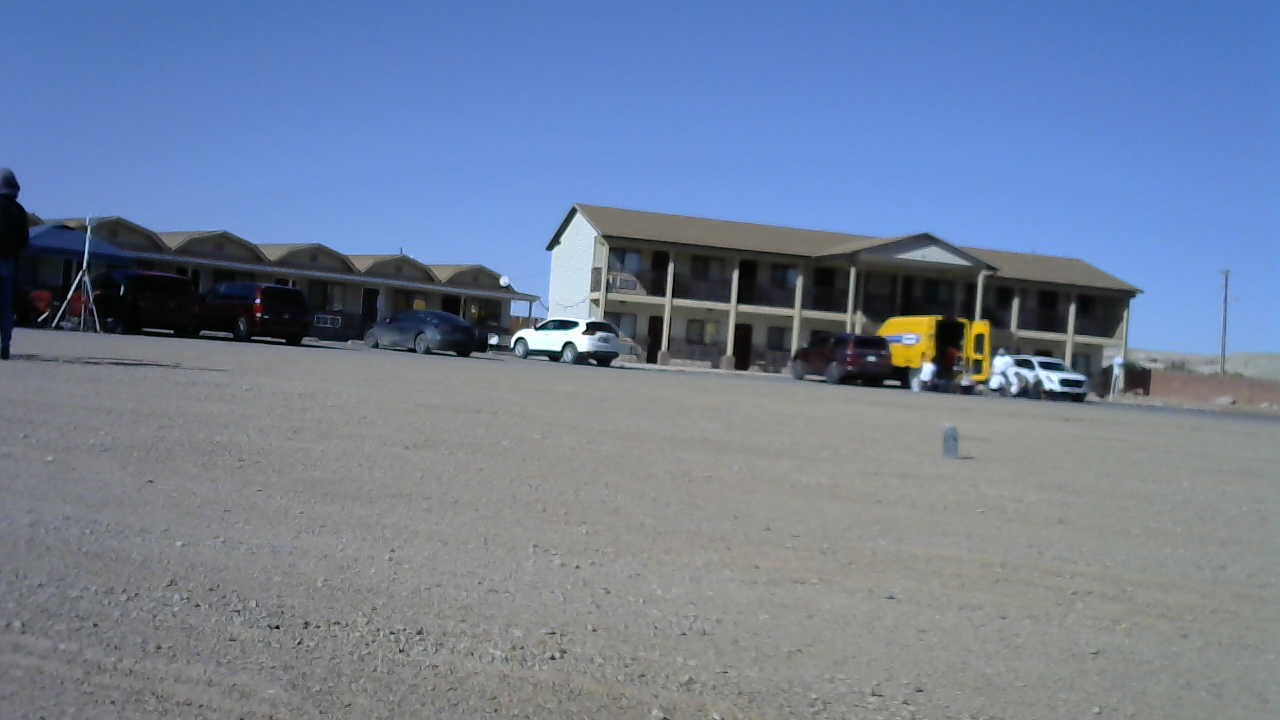bottle: (941, 422, 962, 459)
